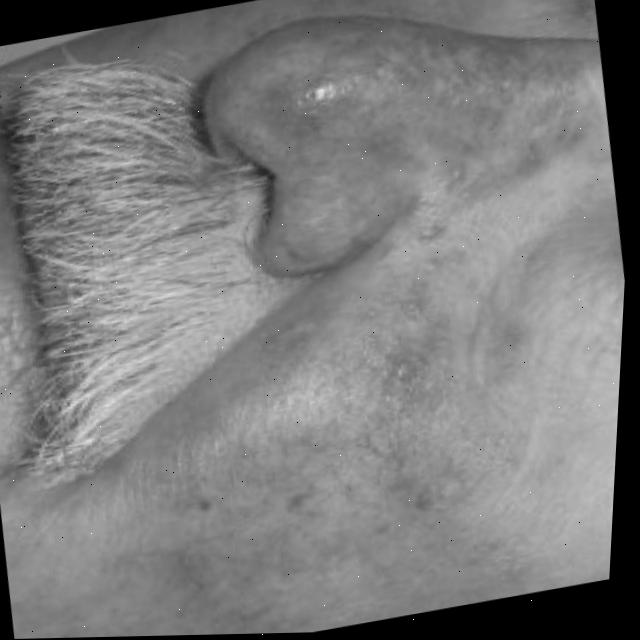Rosacea: (0, 223, 572, 640), (223, 0, 623, 268)
